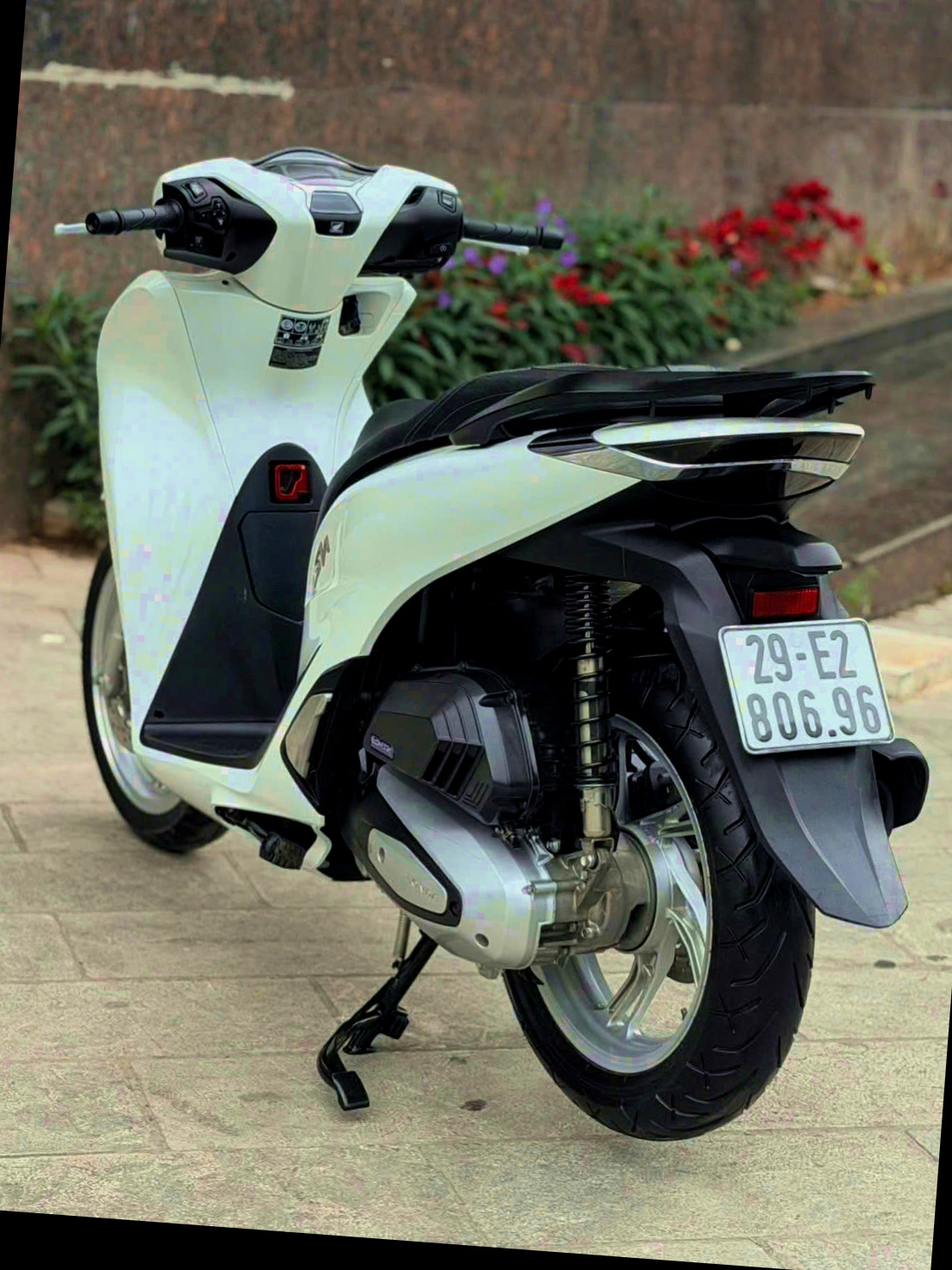Bien-so: (718, 601, 906, 770)
